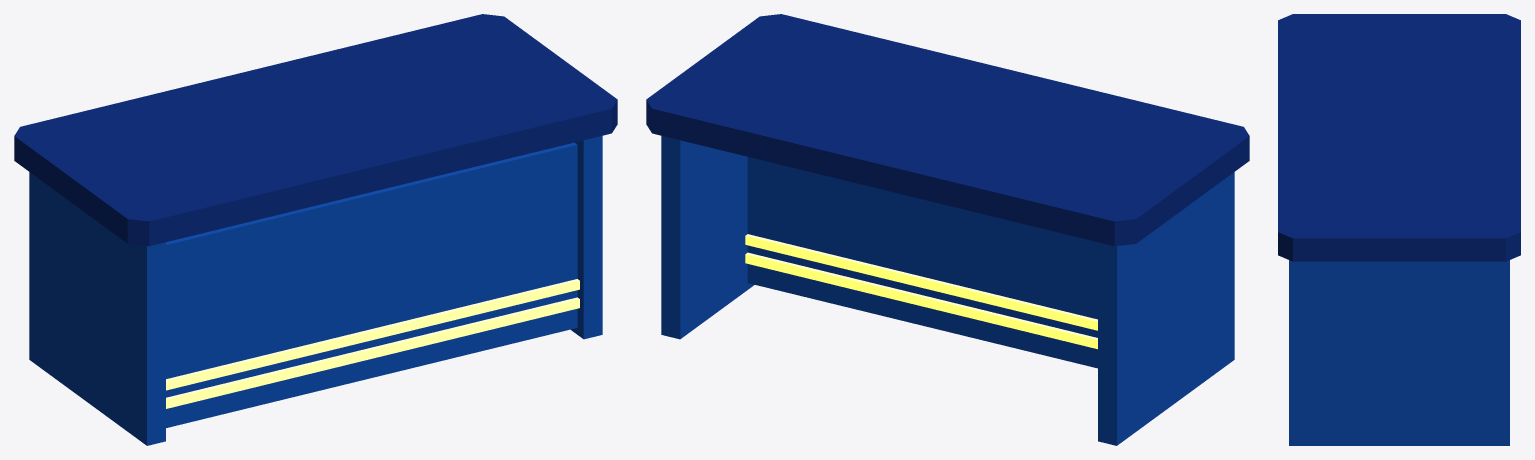
Rendered from desk.glb.
3 views of the same model, side by side, from view 1: azimuth 30°, elevation 25°; view 2: azimuth 150°, elevation 25°; view 3: azimuth 270°, elevation 25° (orthographic). The views are drawn at different scales.
Visible parts, largest first — view 1: Cube.002, Cube, Cube.001, Cube.004, Cube.003; view 2: Cube.002, Cube.001, Cube, Cube.003, Cube.004; view 3: Cube.002, Cube.001.
Part boxes in pixels (x1,y1,x2,y2): Cube.002: [14, 14, 617, 246]; Cube: [166, 142, 577, 427]; Cube.001: [29, 135, 602, 445]; Cube.004: [166, 279, 579, 390]; Cube.003: [166, 297, 579, 408]; Cube.002: [646, 14, 1249, 246]; Cube.001: [661, 135, 1234, 445]; Cube: [747, 157, 1097, 368]; Cube.003: [745, 252, 1097, 349]; Cube.004: [745, 234, 1097, 330]; Cube.002: [1278, 14, 1520, 261]; Cube.001: [1289, 260, 1509, 445].
Bounding box in the file's own units: 2.59 × 1.16 × 1.19.
